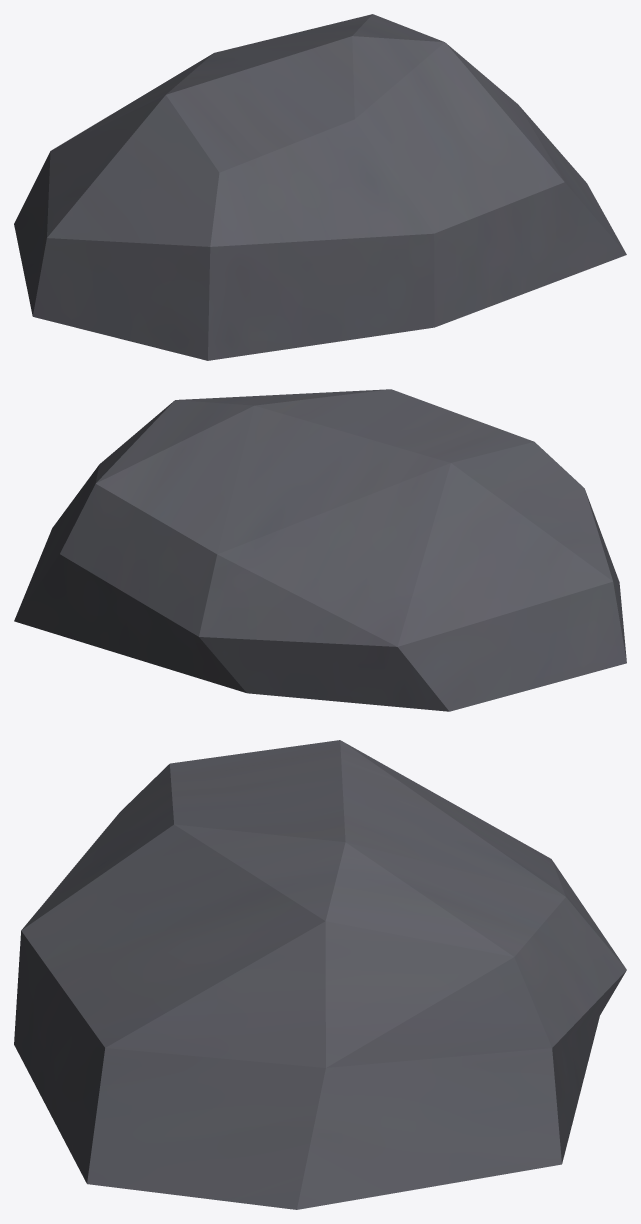
Rendered from Flat_Rock_C.obj.
The picture shows the model from 3 angles, top to bottom: view 1: azimuth 30°, elevation 25°; view 2: azimuth 150°, elevation 25°; view 3: azimuth 270°, elevation 25°; orthographic projection. The views are drawn at different scales.
Visible parts, largest first — view 1: Flat_Rock_C; view 2: Flat_Rock_C; view 3: Flat_Rock_C.
Boxes of the visible parts, <box> form: Flat_Rock_C: <box>14,14,626,360</box>; Flat_Rock_C: <box>14,389,626,711</box>; Flat_Rock_C: <box>14,740,626,1209</box>.
Bounding box in the file's own units: 0.2941 × 0.0946 × 0.222.
